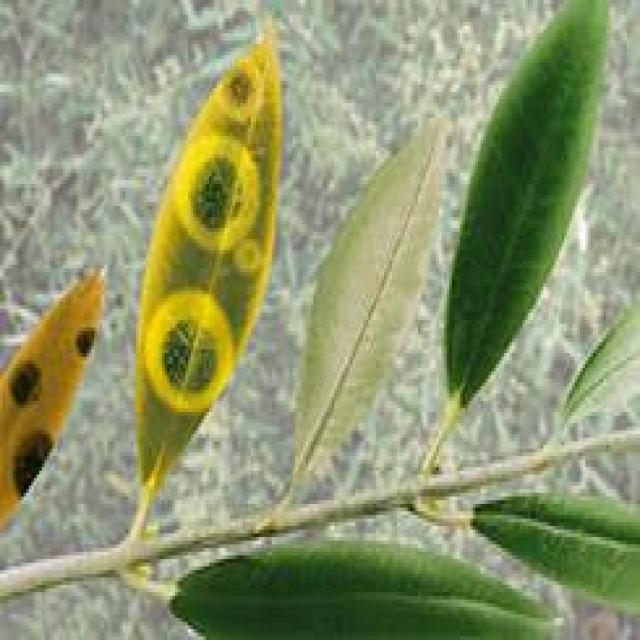Peacock Eye: (128, 29, 282, 537), (0, 269, 102, 526)
